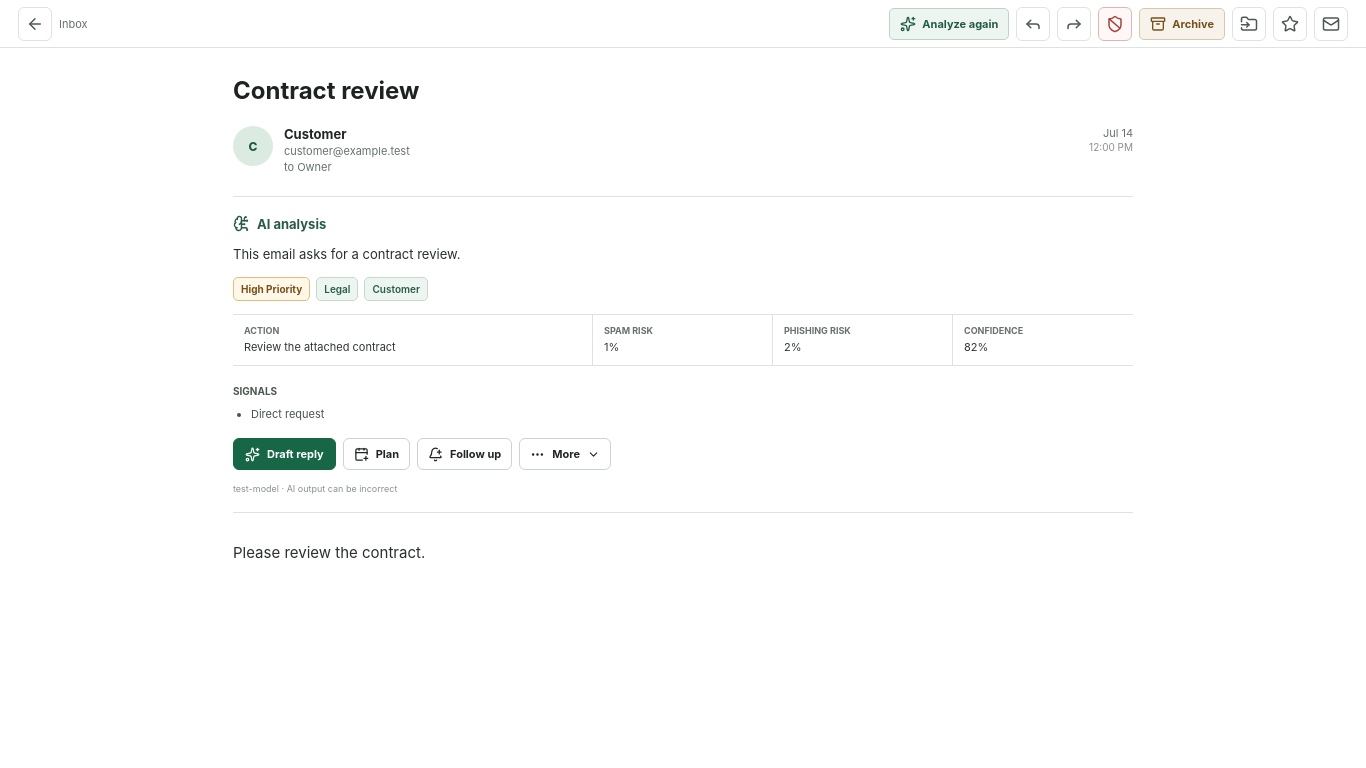
Scenario: MessageReader AI analysis › reviews and edits an AI-recommended to-do before creating it
This screenshot has width=1366, height=768.
Step 1. Click the button with aria-label "Plan event or to-do" → (376,454), box [343,438,410,470]
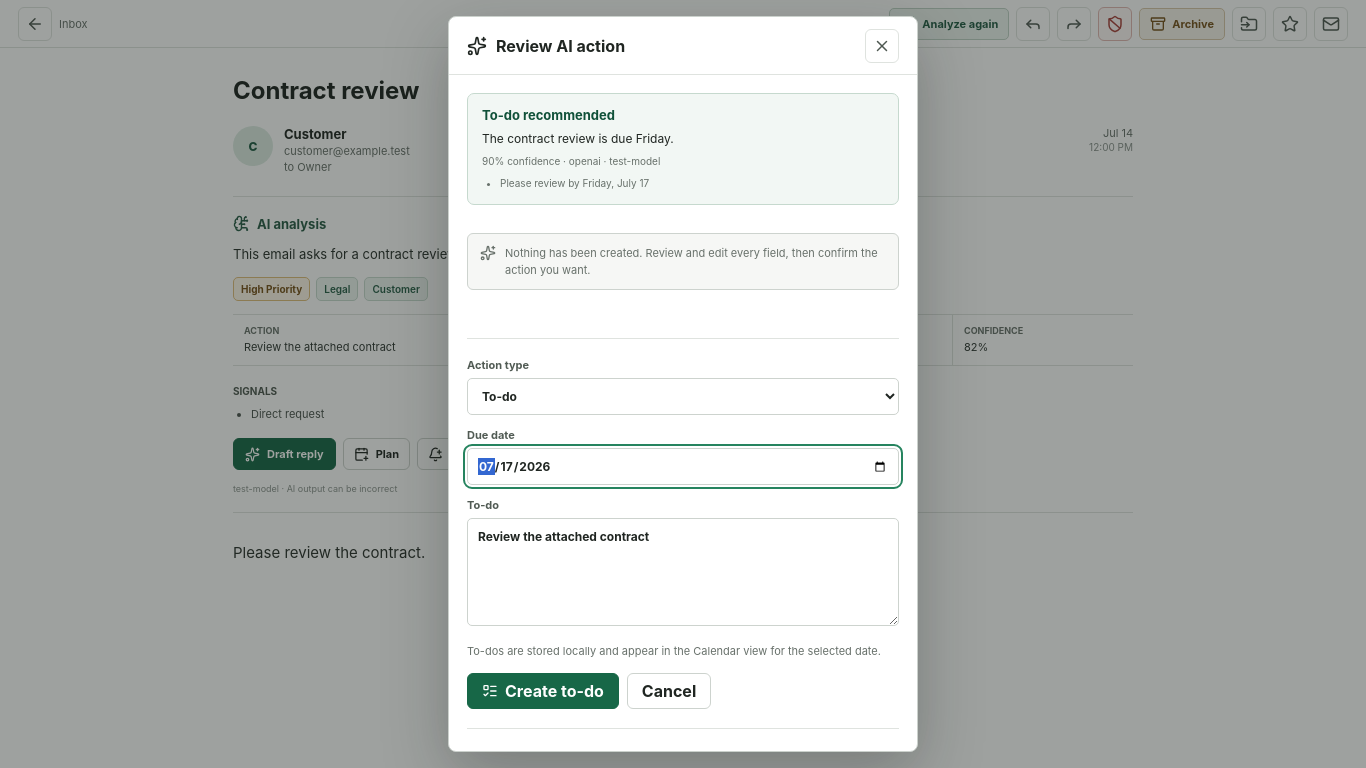
Expected: the dialog "Review AI action" is shown, [448,16,918,752]
Step 2. Type "2026-07-18" into the date field labelled "Due date" → (683,466), box [467,448,899,485]
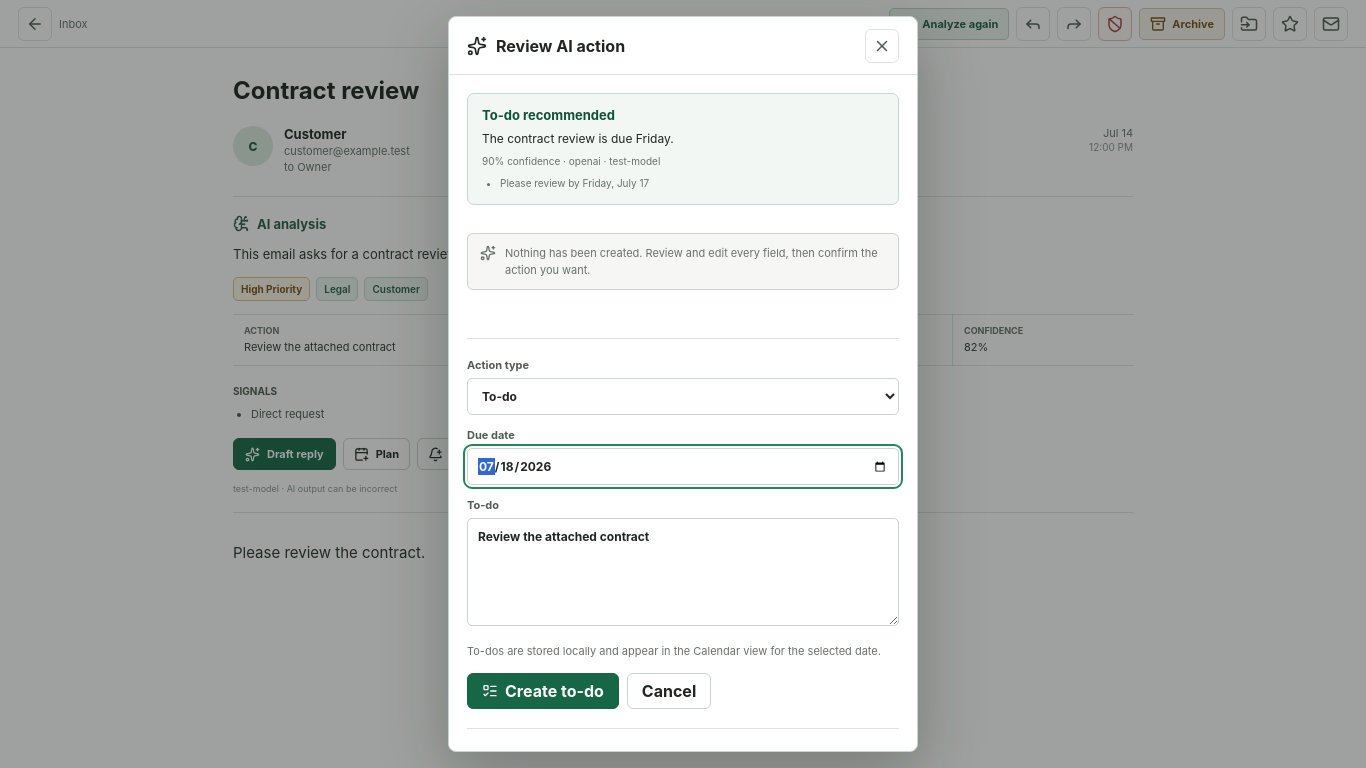
Step 3. Replace the text in the text box labelled "To-do" with "Review and approve the attached contract" → (683,572), box [467,518,899,626]
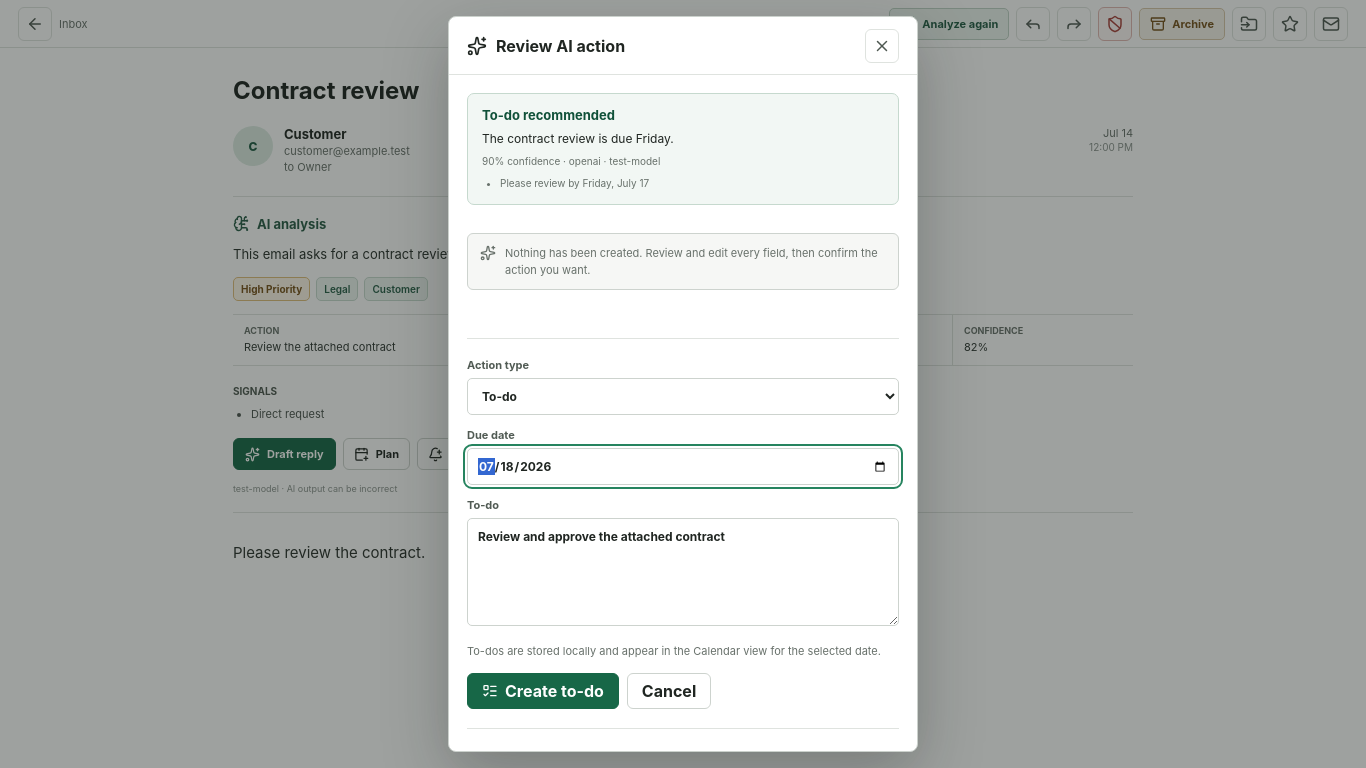
Step 4. Click the button "Create to-do" → (543,690), box [467,672,619,708]
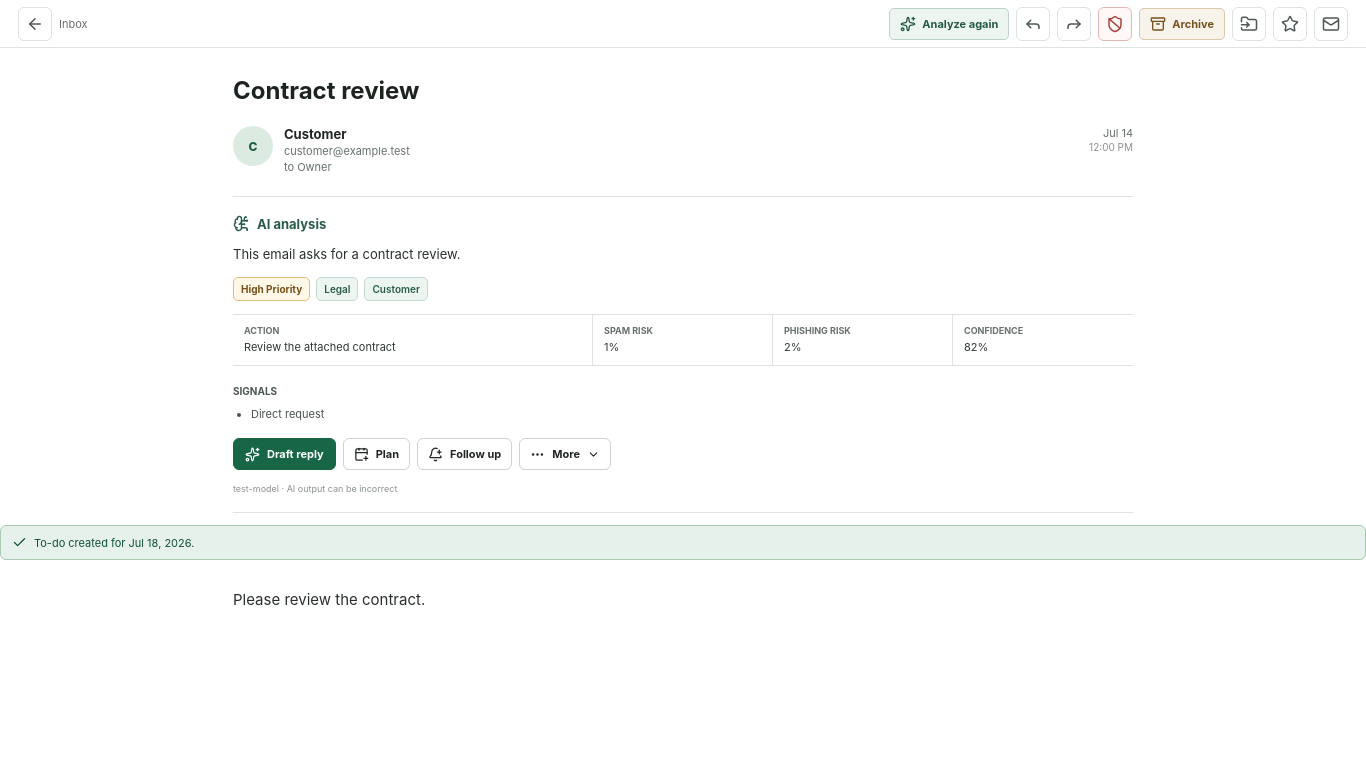
Expected: the text "To-do created for Jul 18, 2026." is shown, [0,525,1365,560]
